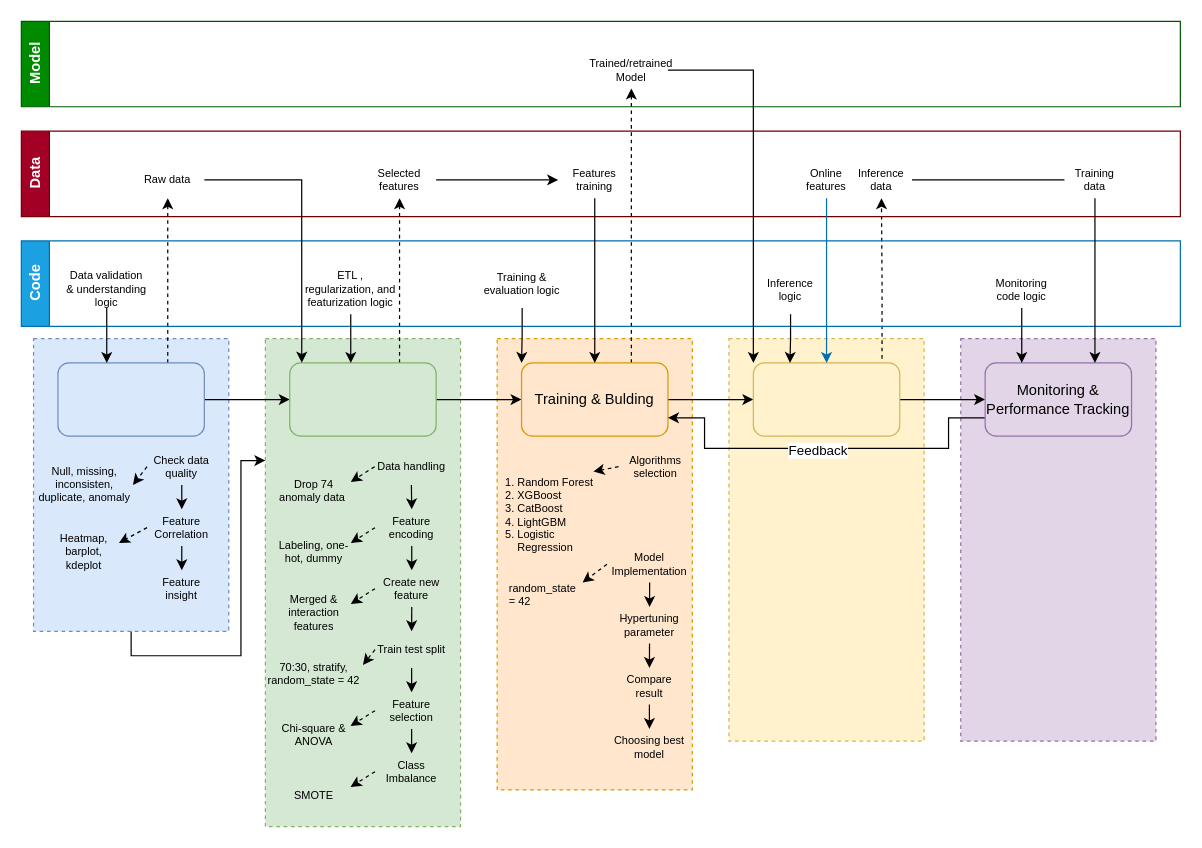
Some shapes in this 1202 by 848 pixel diagram are drawn without their labels. Here are the shapes that lost their labels. From the top down, the centre of each, then its label:
At (x=130, y=399): "EDA".
At (x=362, y=399): "Preprocessing & Feature Engineering".
At (x=826, y=399): "Deployment".
